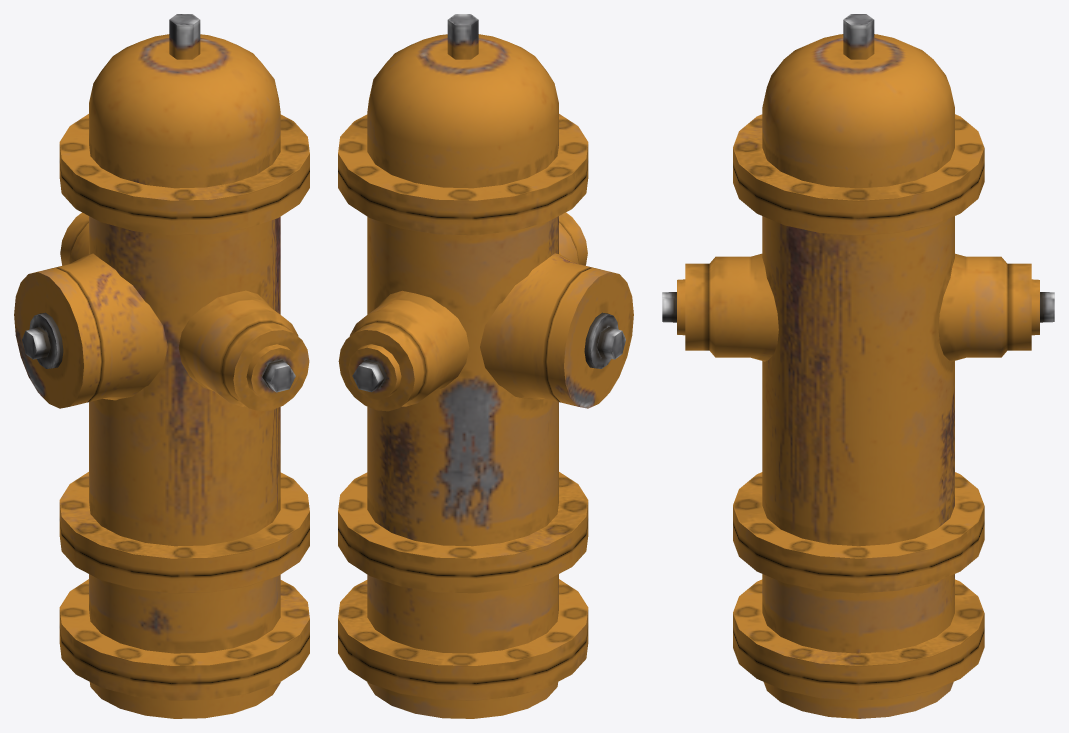
Rendered from MB_Hydrant.fbx.
3 renders of one model, left to right at view 1: azimuth 30°, elevation 25°; view 2: azimuth 150°, elevation 25°; view 3: azimuth 270°, elevation 25°, orthographic.
Parts seen in each view (by area): view 1: MB_Hydrant_LOD0; view 2: MB_Hydrant_LOD0; view 3: MB_Hydrant_LOD0.
Boxes of the visible parts, x1,y1,x2,y2 form: MB_Hydrant_LOD0: [14, 14, 309, 718]; MB_Hydrant_LOD0: [338, 14, 633, 718]; MB_Hydrant_LOD0: [662, 14, 1054, 718].
Size of what is drawn, in the model's own units: 25.81 by 61.43 by 33.18.
